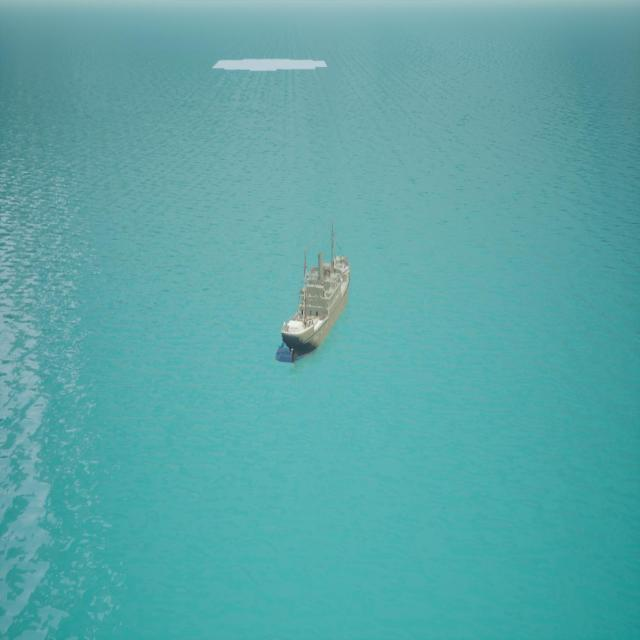fishing ship: (281, 221, 351, 365)
